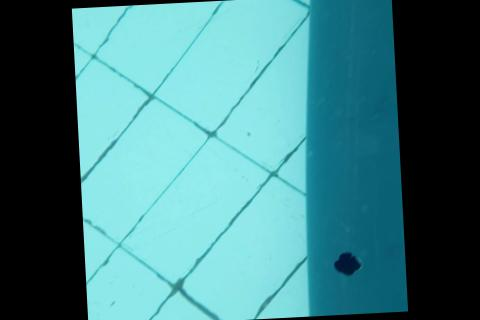kebocoran: (332, 248, 365, 276)
